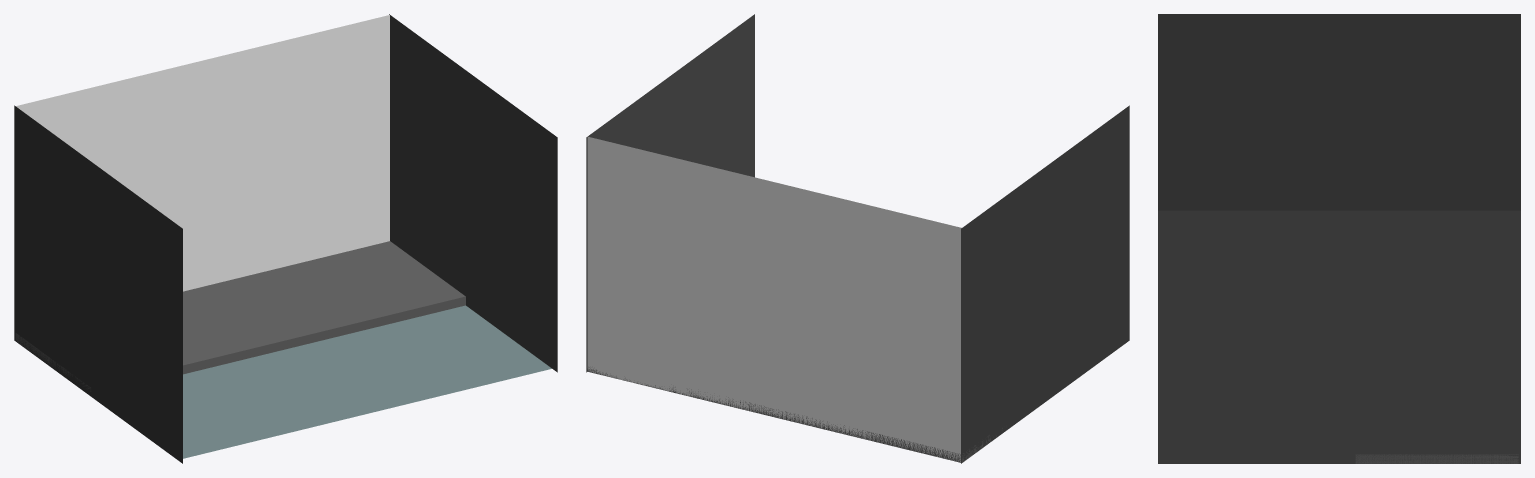
3 renders of one model, left to right at view 1: azimuth 30°, elevation 25°; view 2: azimuth 150°, elevation 25°; view 3: azimuth 270°, elevation 25°, orthographic. The views are drawn at different scales.
Parts seen in each view (by area): view 1: led, ledL, ledR, floor, stage; view 2: led, ledL, ledR, stage; view 3: ledR, ledL, stage.
Boxes of the visible parts, x1=… form: led: x1=16, y1=15, x2=389, y2=291; ledL: x1=14, y1=105, x2=182, y2=463; ledR: x1=389, y1=14, x2=557, y2=372; floor: x1=183, y1=305, x2=551, y2=458; stage: x1=15, y1=241, x2=465, y2=391; led: x1=587, y1=136, x2=961, y2=461; ledL: x1=961, y1=105, x2=1129, y2=463; ledR: x1=586, y1=14, x2=754, y2=372; stage: x1=587, y1=367, x2=1002, y2=462; ledR: x1=1158, y1=210, x2=1520, y2=463; ledL: x1=1158, y1=14, x2=1520, y2=210; stage: x1=1355, y1=454, x2=1518, y2=463.
Size of the model in its own units: 20 by 12 by 15.59.
